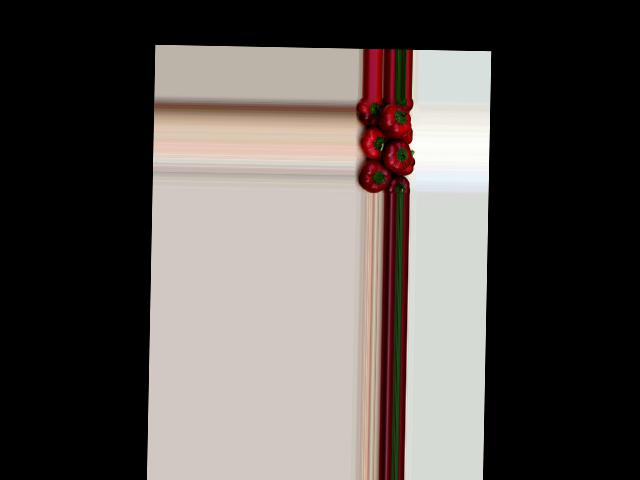bell_pepper: (400, 130, 414, 144)
